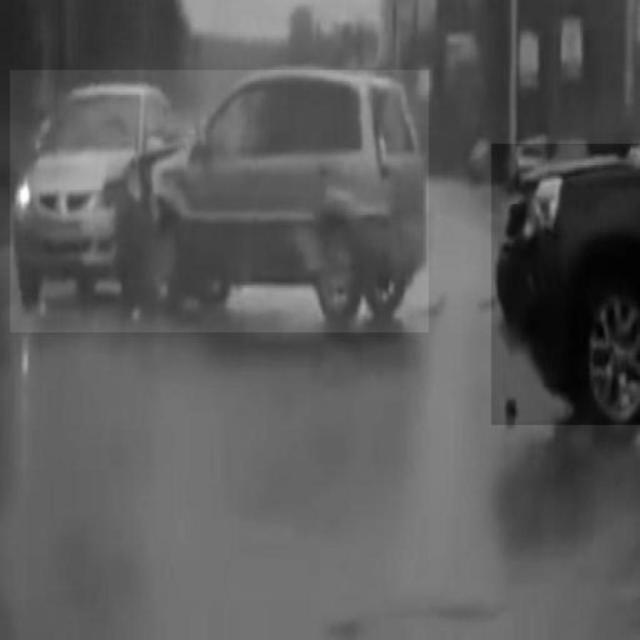accident: (10, 70, 428, 332)
vehicle: (491, 144, 639, 425)
